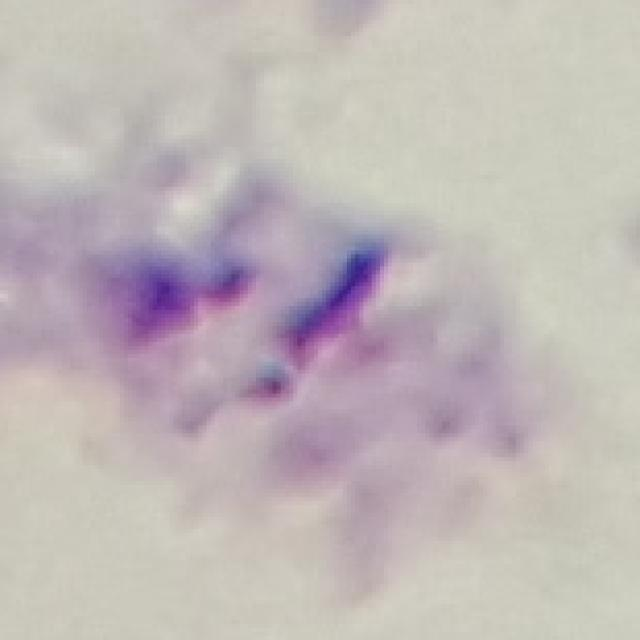non-sperm: (81, 178, 537, 560)
